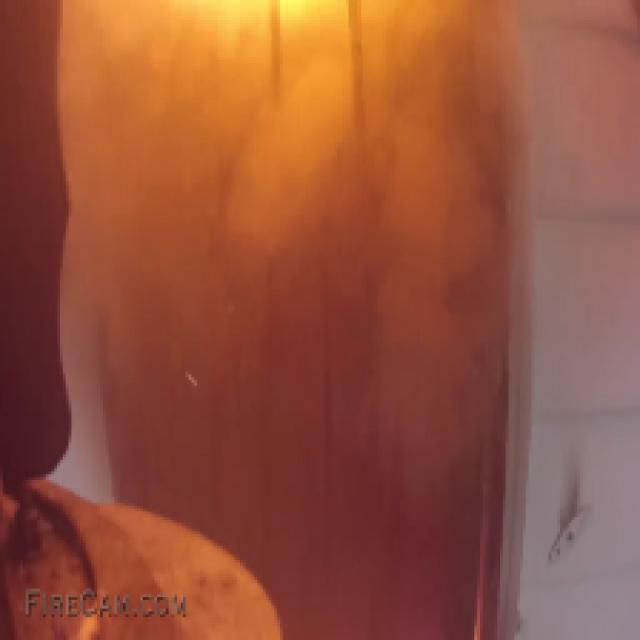Fire: (88, 3, 480, 123)
Smoke: (57, 6, 640, 346)
